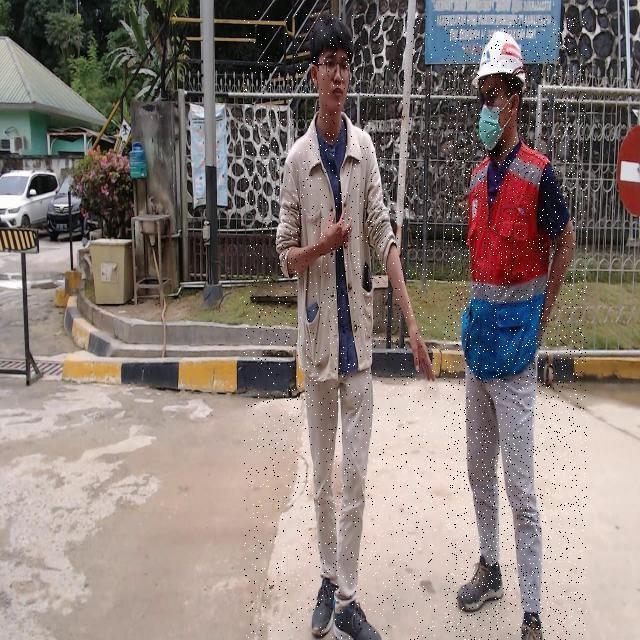goggles: (473, 90, 503, 111)
helmet: (471, 29, 527, 91)
safety_vest: (461, 144, 549, 378)
